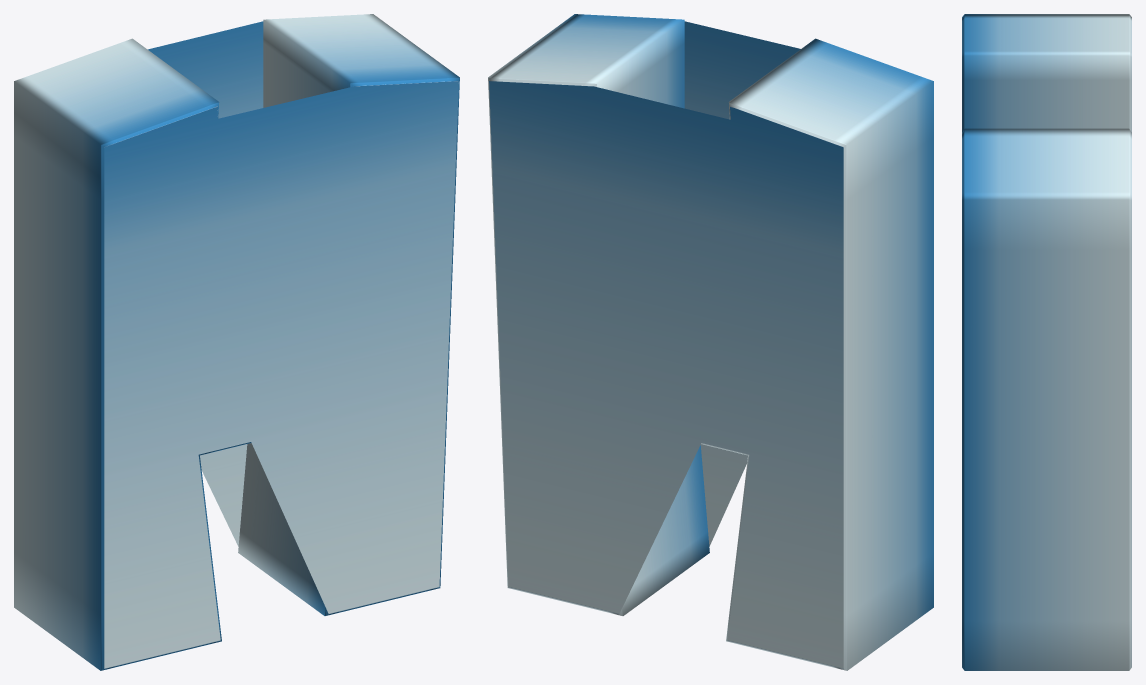
The model's file is alphaHR.obj.
3 renders of one model, left to right at view 1: azimuth 30°, elevation 25°; view 2: azimuth 150°, elevation 25°; view 3: azimuth 270°, elevation 25°, orthographic. The views are drawn at different scales.
Parts seen in each view (by area): view 1: polySurface10; view 2: polySurface10; view 3: polySurface10.
Part boxes in pixels (x1,y1,x2,y2): polySurface10: [14, 14, 459, 670]; polySurface10: [488, 14, 933, 670]; polySurface10: [962, 14, 1131, 670].
Bounding box in the file's own units: 1.53 × 2.19 × 0.6578.
